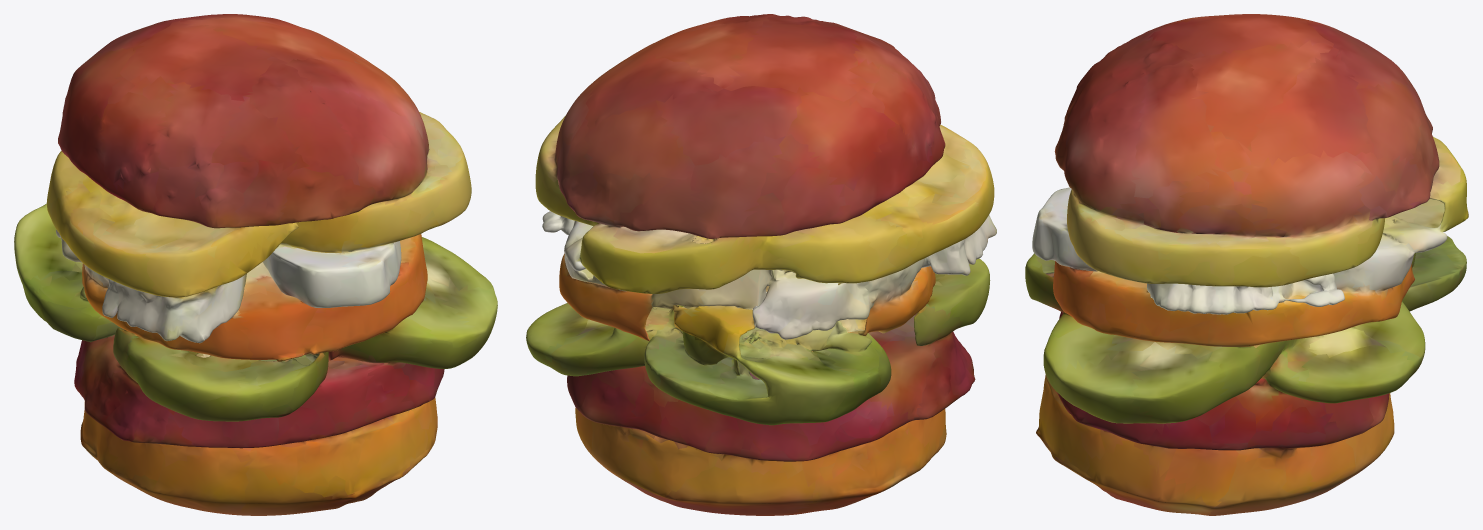
File: Fruit_Burger.glb
3 renders of one model, left to right at view 1: azimuth 30°, elevation 25°; view 2: azimuth 150°, elevation 25°; view 3: azimuth 270°, elevation 25°, orthographic. The views are drawn at different scales.
Size of the model in its own units: 1.88 by 2 by 1.88.
1 material, 1 textured.
